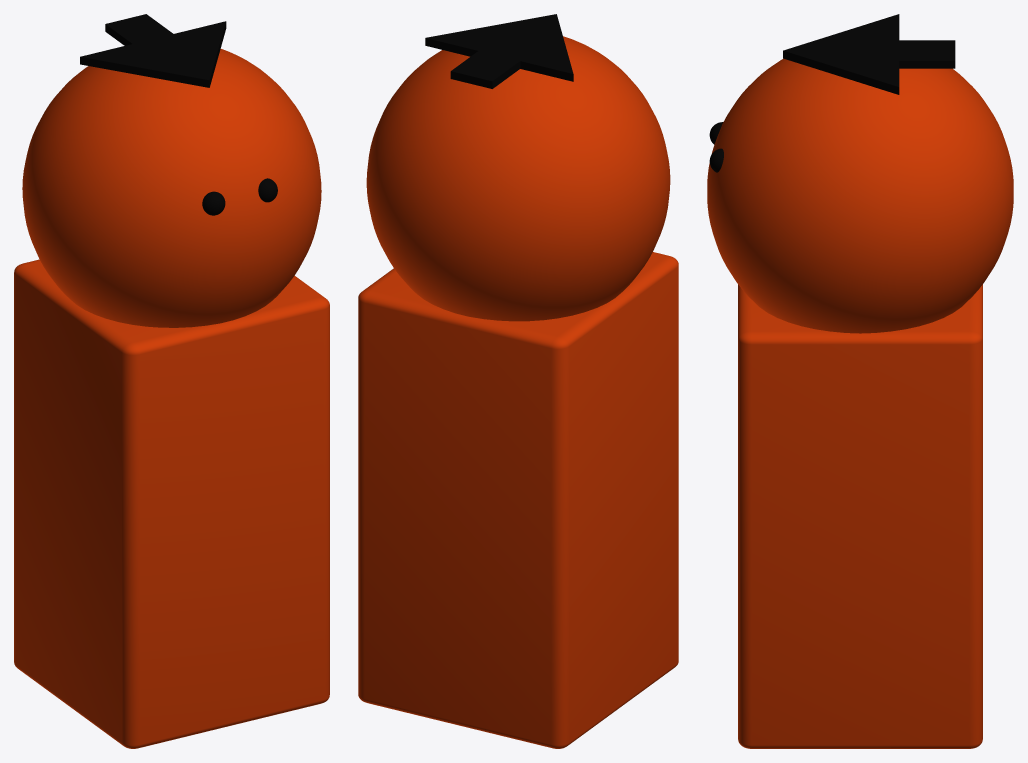
3 renders of one model, left to right at view 1: azimuth 30°, elevation 25°; view 2: azimuth 150°, elevation 25°; view 3: azimuth 270°, elevation 25°, orthographic. The views are drawn at different scales.
Parts seen in each view (by area): view 1: Curve.004_Curve.009_Material.005, Curve.004_Curve.009_SVGMat; view 2: Curve.004_Curve.009_Material.005, Curve.004_Curve.009_SVGMat; view 3: Curve.004_Curve.009_Material.005, Curve.004_Curve.009_SVGMat.
Boxes of the visible parts, x1,y1,x2,y2 form: Curve.004_Curve.009_Material.005: (14,49,329,748); Curve.004_Curve.009_SVGMat: (80,14,277,215); Curve.004_Curve.009_Material.005: (358,36,678,748); Curve.004_Curve.009_SVGMat: (425,14,573,88); Curve.004_Curve.009_Material.005: (707,58,1013,748); Curve.004_Curve.009_SVGMat: (709,14,955,172).
Size of the model in its own units: 0.2062 by 0.4815 by 0.2057.
